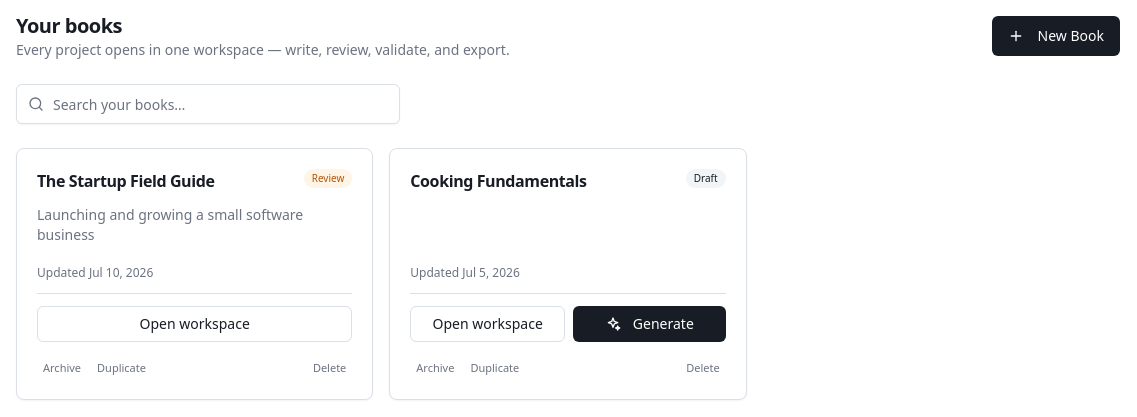
Test: DashboardPage › filters books by search text
Type "cooking" into the field with placeholder "Search your books…".
click(208, 104); type("cooking")  # box x1=16 y1=84 x2=400 y2=124
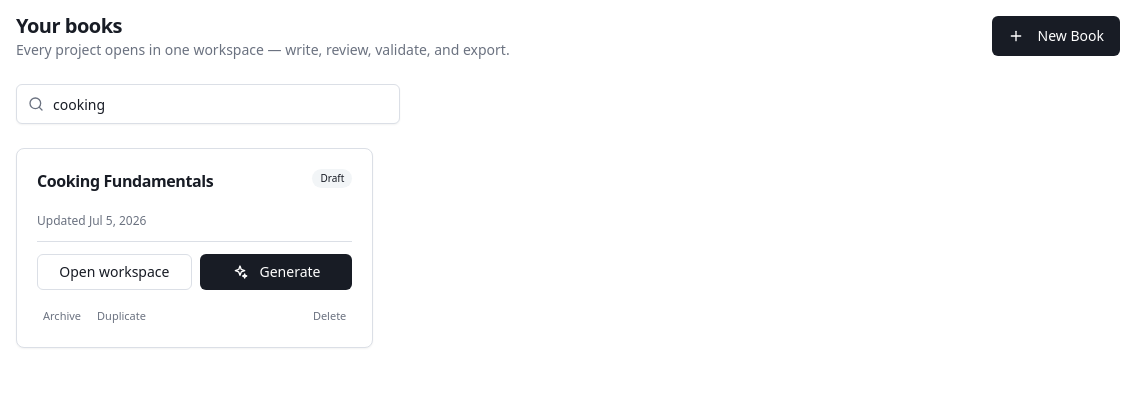
Check: the button "Cooking Fundamentals" is shown, box x1=37 y1=169 x2=213 y2=193
Check: the button "The Startup Field Guide" is gone
